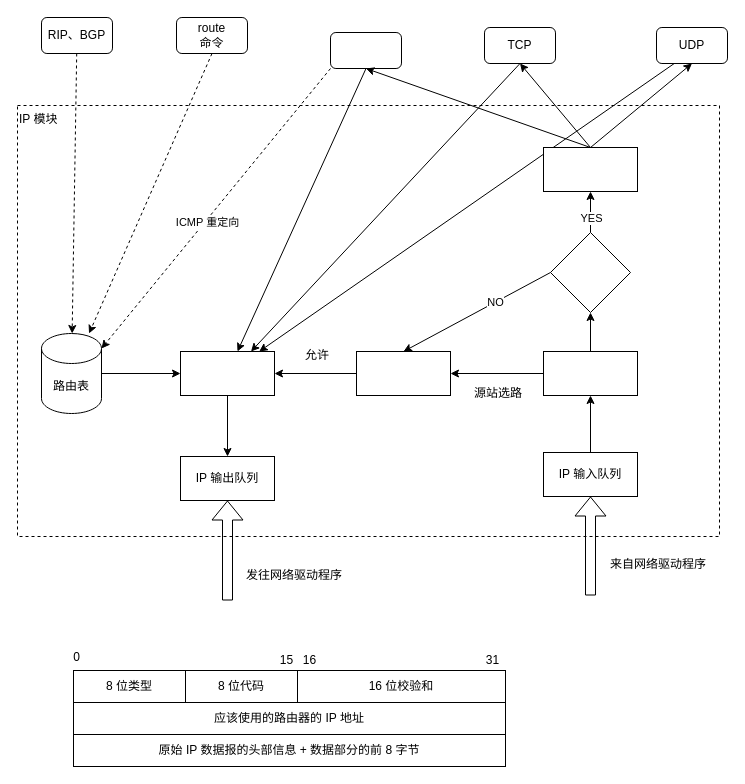
The diagram is 745 pixels wide and 784 high, and some of its shapes have lost their labels. The centre of each missing label's shape, as x and y in pixels:
ICMP: (366,50)
分用: (590,169)
发送给本机的数据报？: (590,272)
处理 IP 头部选项: (590,373)
数据报转发: (403,373)
计算下一跳路由: (227,373)
